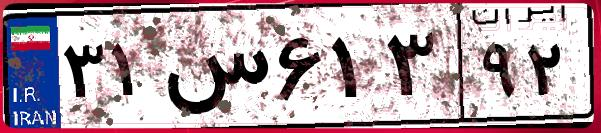1: (330, 28, 385, 110), (110, 28, 158, 98)
2: (525, 38, 570, 115)
3: (385, 28, 445, 110), (57, 26, 110, 100)
6: (270, 28, 330, 110)
9: (475, 38, 525, 113)
س: (158, 20, 270, 120)
